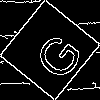G: (25, 25, 86, 84)
